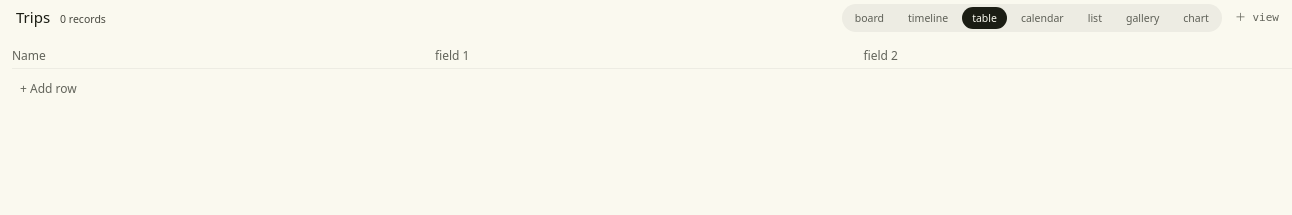
it: CollectionTable — rename a field from its header (KAN-380) › undo restores the original name
Click the button "field 2" at (881, 56), box [863,48,1280,64]
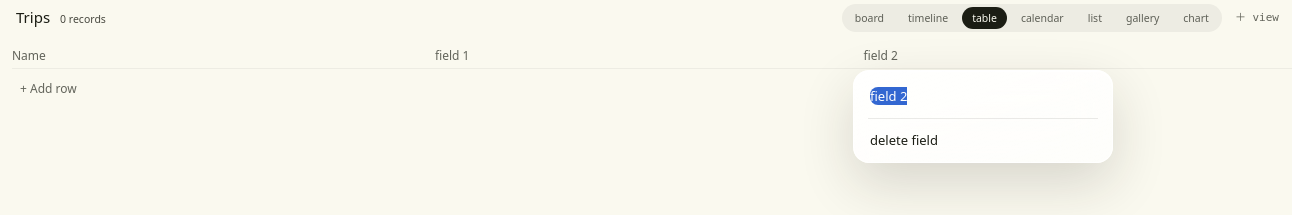
Clear the field named "field name" at (983, 96), box [870,87,1096,105]
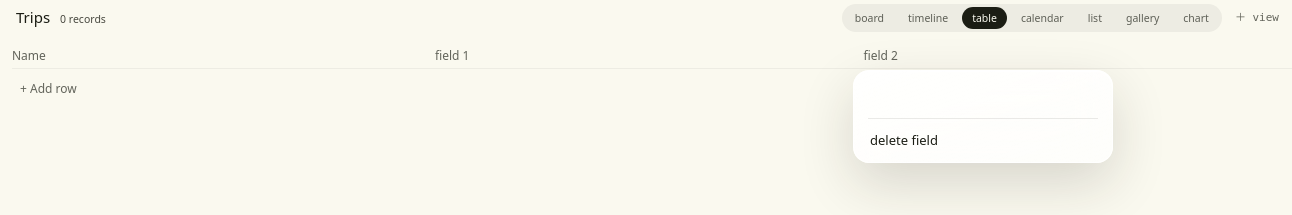
Type keys "due{Enter}"
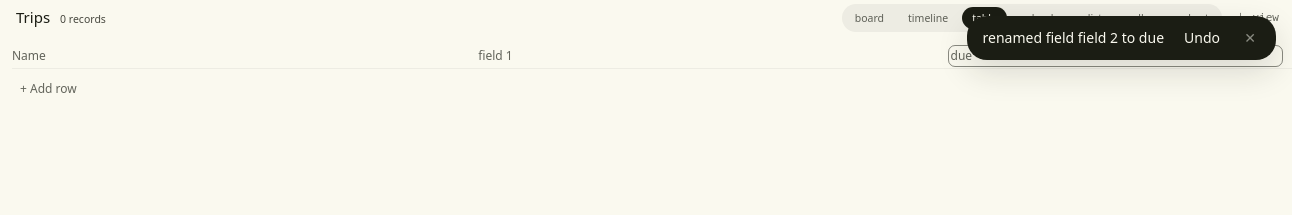
Now the button "due" is shown, box [950,48,1280,64]
Click the button "Undo" at (1202, 38), box [1176,26,1228,50]
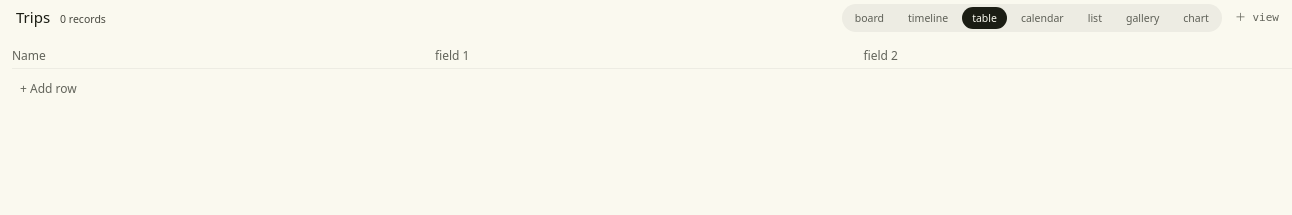
Now the button "field 2" is shown, box [863,48,1280,64]
